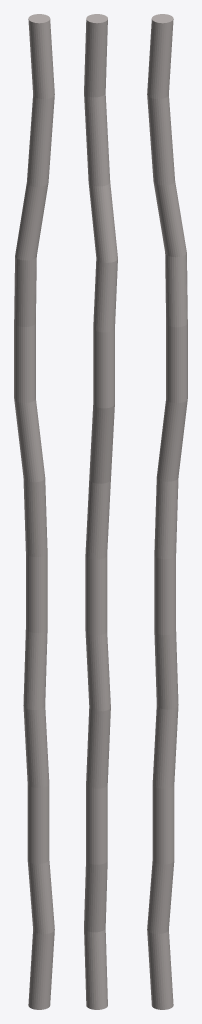
File: DamagePiece4.obj
3 renders of one model, left to right at view 1: azimuth 90°, elevation 25°; view 2: azimuth 210°, elevation 25°; view 3: azimuth 270°, elevation 25°, orthographic.
Parts seen in each view (by area): view 1: 円柱; view 2: 円柱; view 3: 円柱.
Part boxes in pixels (x1=…): 円柱: x1=14, y1=14, x2=54, y2=1009; 円柱: x1=84, y1=14, x2=117, y2=1009; 円柱: x1=147, y1=14, x2=187, y2=1009.
Bounding box in the file's own units: 0.0516 × 2 × 0.0749.
Materials: 1 (1 with a texture image).
